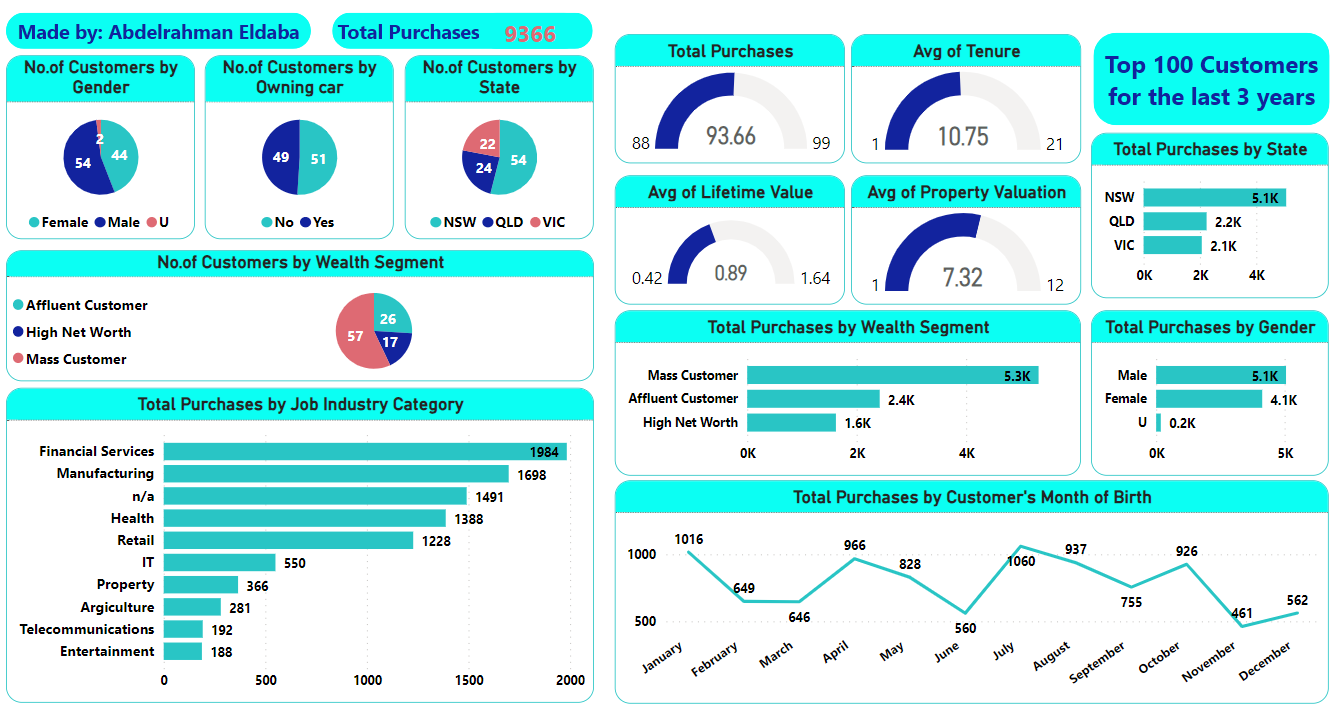

The dashboard page shown, as its layout file describes it:
{"tool":"powerbi","page":{"name":"Page 1","canvas":[1280,720],"ordinal":0},"visuals":[{"type":"pieChart","title":"No.of Customers by Gender","fields":{"Series":["Top 100 Customers.Gender"],"Y":["CountNonNull(Top 100 Customers.Full Name)"]},"box":[9.6,91.9,179.6,175.5],"z":0},{"type":"pieChart","title":"No.of Customers by Owning car","fields":{"Y":["CountNonNull(Top 100 Customers.Full Name)"],"Category":["Top 100 Customers.Owns car"]},"box":[198.8,91.9,179.6,175.5],"z":1000},{"type":"pieChart","title":"No.of Customers by State","fields":{"Series":["Top 100 Customers.State"],"Y":["CountNonNull(Top 100 Customers.Full Name)"]},"box":[389.4,91.9,179.6,175.5],"z":2000},{"type":"pieChart","title":"No.of Customers by Wealth Segment","fields":{"Series":["Top 100 Customers.Wealth Segment"],"Y":["CountNonNull(Top 100 Customers.Full Name)"]},"box":[9.6,277,560,125],"z":3000},{"type":"lineChart","title":"Total Purchases by Customer''s Month of Birth","fields":{"Y":["Sum(Top 100 Customers.Past_3_years_bike_related_purchases)"],"Category":["Top 100 Customers.DOB.Variation.Date Hierarchy.Month"]},"box":[589.5,496.3,680,212.5],"z":4000},{"type":"gauge","title":"Avg of Lifetime Value ","fields":{"MinValue":["Min(Top 100 Customers.Value)"],"Y":["Avg(Top 100 Customers.Value)"],"MaxValue":["Max(Top 100 Customers.Value)"]},"box":[589.5,205.7,219.4,123.4],"z":5000},{"type":"gauge","title":"Avg of Tenure","fields":{"MinValue":["Min(Top 100 Customers.Tenure)"],"Y":["Avg(Top 100 Customers.Tenure)"],"MaxValue":["Max(Top 100 Customers.Tenure)"]},"box":[814.4,71.3,219.4,123.4],"z":6000},{"type":"gauge","title":"Avg of Property Valuation","fields":{"Y":["Avg(Top 100 Customers.Property Valuation)"],"MinValue":["Min(Top 100 Customers.Property Valuation)"],"MaxValue":["Max(Top 100 Customers.Property Valuation)"]},"box":[814.4,205.7,219.4,123.4],"z":7000},{"type":"gauge","title":"Total Purchases","fields":{"Y":["Avg(Top 100 Customers.Past_3_years_bike_related_purchases)"],"MinValue":["Min(Top 100 Customers.Past_3_years_bike_related_purchases)"],"MaxValue":["Max(Top 100 Customers.Past_3_years_bike_related_purchases)"]},"box":[589.5,71.3,219.4,123.4],"z":8000},{"type":"barChart","title":"Total Purchases by Job Industry Category","fields":{"Category":["Top 100 Customers.Job Industry Category"],"Y":["Sum(Top 100 Customers.Past_3_years_bike_related_purchases)"]},"box":[9.6,408.6,560,300.3],"z":9000},{"type":"clusteredBarChart","title":"Total Purchases by State","fields":{"Y":["Sum(Top 100 Customers.Past_3_years_bike_related_purchases)"],"Category":["Top 100 Customers.State"]},"box":[1043.4,165.9,226.2,157.7],"z":10000},{"type":"clusteredBarChart","title":"Total Purchases by Wealth Segment","fields":{"Y":["Sum(Top 100 Customers.Past_3_years_bike_related_purchases)"],"Category":["Top 100 Customers.Wealth Segment"]},"box":[589.5,334.5,444.2,157.7],"z":11000},{"type":"barChart","title":"Total Purchases by Gender","fields":{"Category":["Top 100 Customers.Gender"],"Y":["Sum(Top 100 Customers.Past_3_years_bike_related_purchases)"]},"box":[1043.4,334.5,226.2,157.7],"z":12000},{"type":"shape","box":[1044.7,69.9,224.9,87.7],"z":13000},{"type":"shape","box":[9.6,50.7,290.7,34.3],"z":14000},{"type":"shape","box":[320.8,50.7,248.2,34.3],"z":15000},{"type":"shape","box":[459.3,50.7,98.7,34.3],"z":16000}]}

Visuals, with their boxes on the page's 1280x720 design canvas (x1, y1, x2, y2). These are canvas units, not pixel positions in the 1335x707 screenshot, which may show the page scaled, cropped or inside an application window:
"No.of Customers by Gender" pieChart: (x1=10, y1=92, x2=189, y2=267)
"No.of Customers by Owning car" pieChart: (x1=199, y1=92, x2=378, y2=267)
"No.of Customers by State" pieChart: (x1=389, y1=92, x2=569, y2=267)
"No.of Customers by Wealth Segment" pieChart: (x1=10, y1=277, x2=570, y2=402)
"Total Purchases by Customer''s Month of Birth" lineChart: (x1=590, y1=496, x2=1270, y2=709)
"Avg of Lifetime Value " gauge: (x1=590, y1=206, x2=809, y2=329)
"Avg of Tenure" gauge: (x1=814, y1=71, x2=1034, y2=195)
"Avg of Property Valuation" gauge: (x1=814, y1=206, x2=1034, y2=329)
"Total Purchases" gauge: (x1=590, y1=71, x2=809, y2=195)
"Total Purchases by Job Industry Category" barChart: (x1=10, y1=409, x2=570, y2=709)
"Total Purchases by State" clusteredBarChart: (x1=1043, y1=166, x2=1270, y2=324)
"Total Purchases by Wealth Segment" clusteredBarChart: (x1=590, y1=334, x2=1034, y2=492)
"Total Purchases by Gender" barChart: (x1=1043, y1=334, x2=1270, y2=492)
shape: (x1=1045, y1=70, x2=1270, y2=158)
shape: (x1=10, y1=51, x2=300, y2=85)
shape: (x1=321, y1=51, x2=569, y2=85)
shape: (x1=459, y1=51, x2=558, y2=85)
